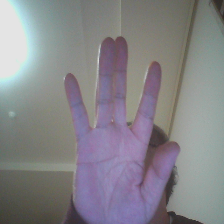hand: (61, 28, 177, 223)
